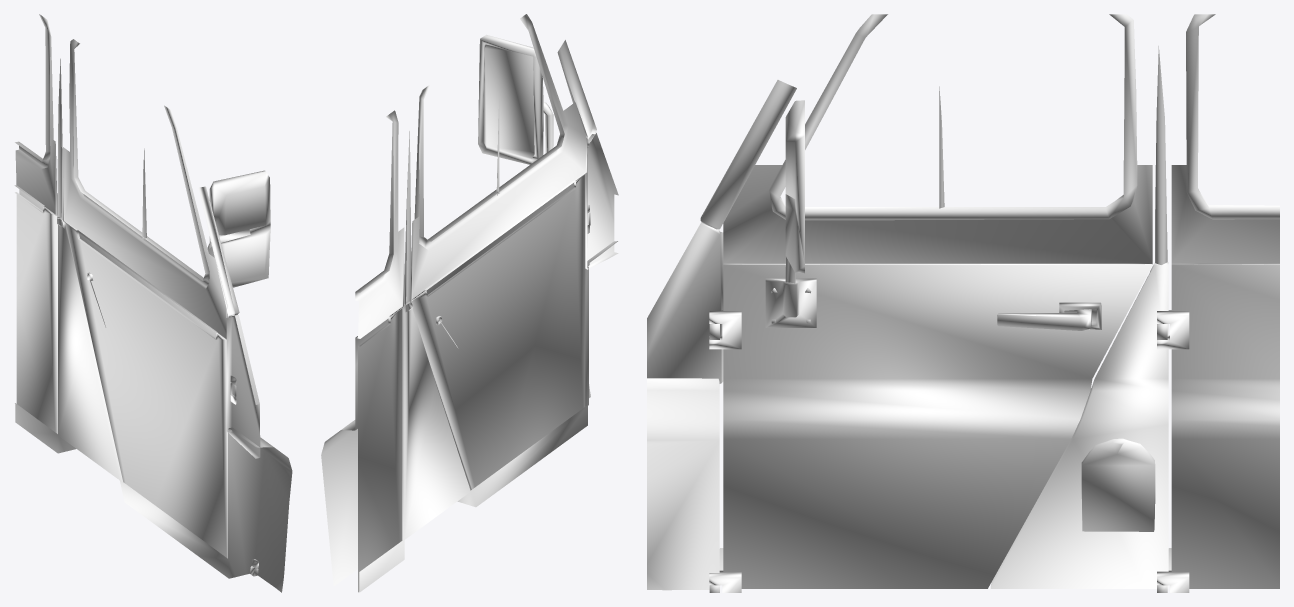
3 renders of one model, left to right at view 1: azimuth 30°, elevation 25°; view 2: azimuth 150°, elevation 25°; view 3: azimuth 270°, elevation 25°, orthographic. The views are drawn at different scales.
Size of the model in its own units: 0.1916 by 1.09 by 1.12.
1 material, 1 textured.
